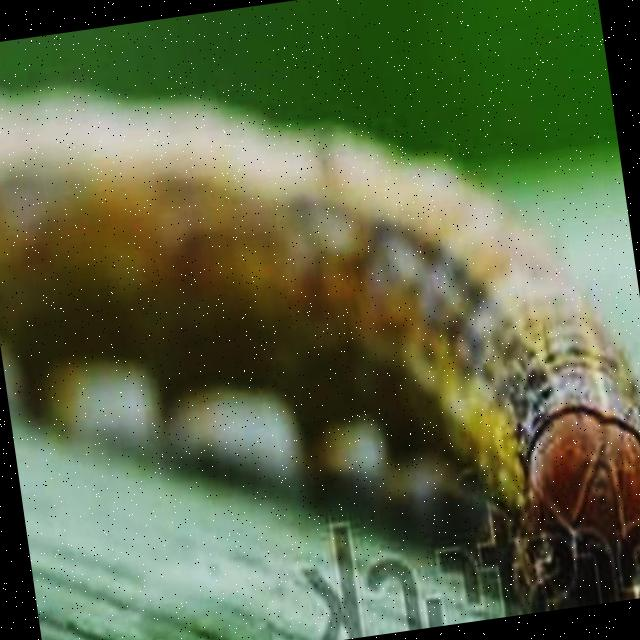worm: (1, 1, 640, 640)
